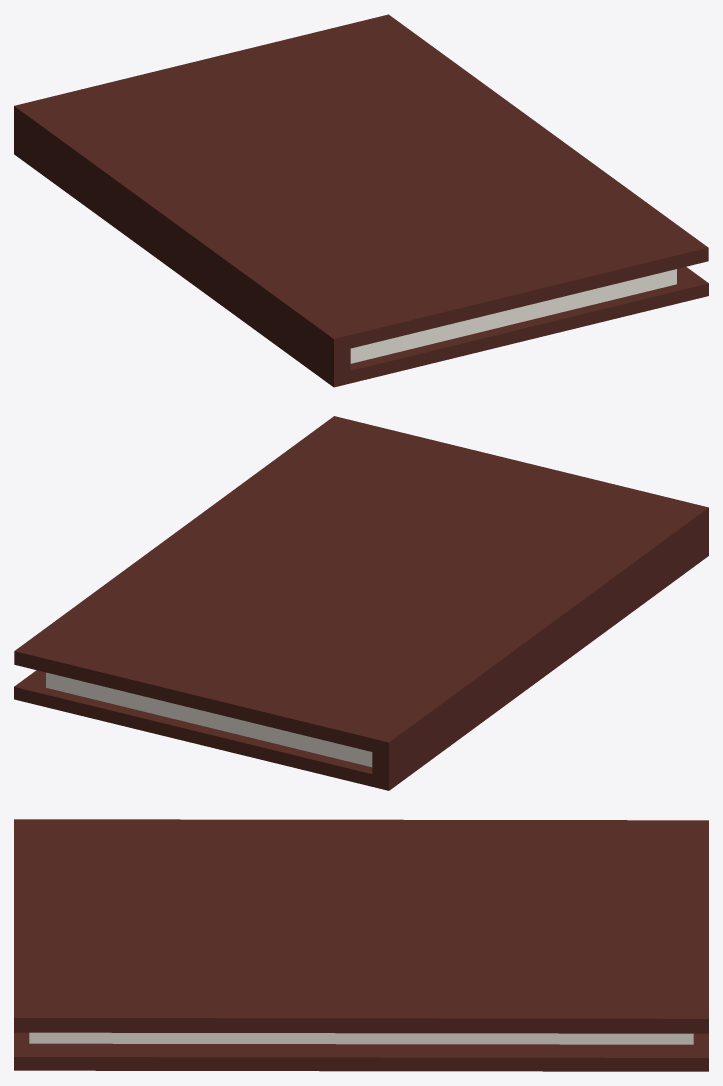
The model's file is diari.fbx.
The picture shows the model from 3 angles, top to bottom: view 1: azimuth 30°, elevation 25°; view 2: azimuth 150°, elevation 25°; view 3: azimuth 270°, elevation 25°; orthographic projection. The views are drawn at different scales.
Visible parts, largest first — view 1: Cube, Cube.001; view 2: Cube, Cube.001; view 3: Cube, Cube.001.
Boxes of the visible parts, bbox=[...] form: Cube: bbox=[14, 14, 708, 387]; Cube.001: bbox=[350, 269, 676, 363]; Cube: bbox=[14, 416, 708, 790]; Cube.001: bbox=[46, 672, 372, 767]; Cube: bbox=[14, 819, 708, 1071]; Cube.001: bbox=[29, 1032, 693, 1044].
Size of the model in its own units: 200 by 25.2 by 296.
